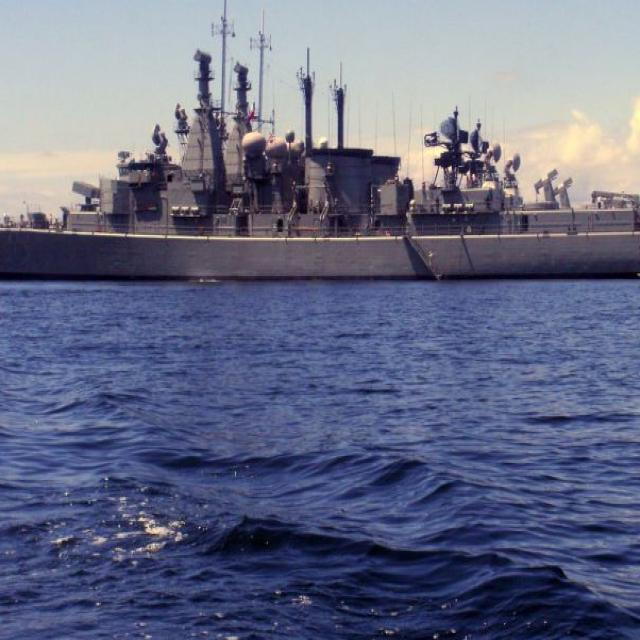Fragata: (1, 5, 640, 286)
